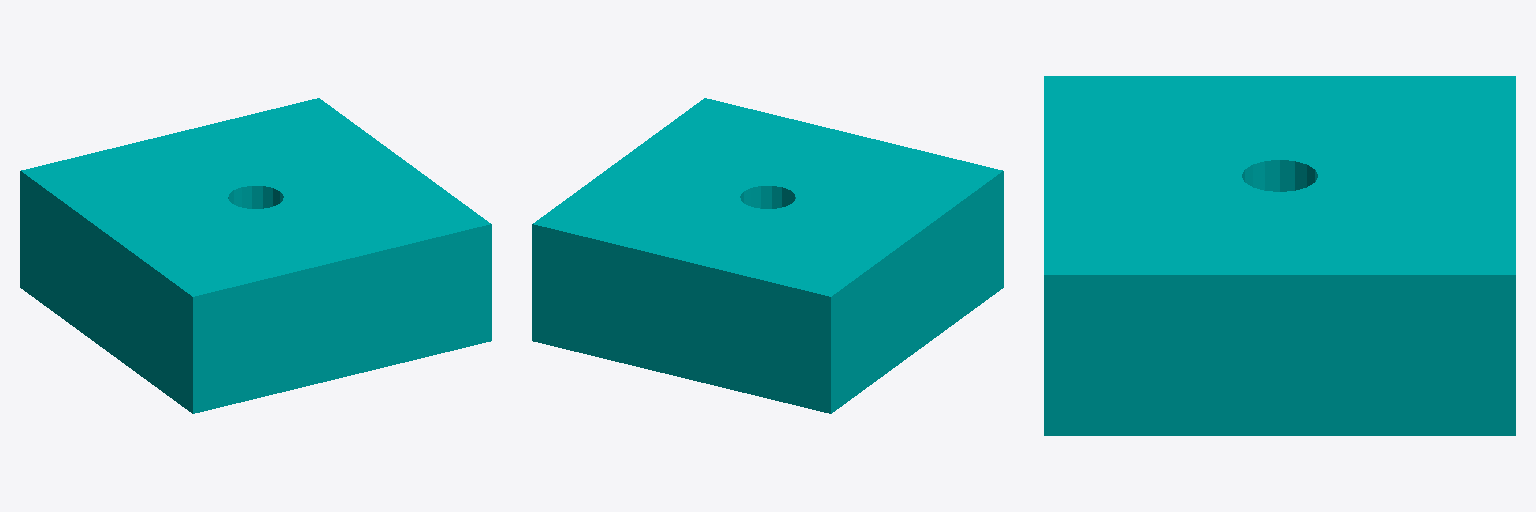
URDF robot description (0.65diam roundhole):
<?xml version="1.0" encoding="utf-8"?>
<!-- This URDF was automatically created by SolidWorks to URDF Exporter! Originally created by [author] ([email redacted]) 
     Commit Version: 1.5.1-0-g916b5db  Build Version: 1.5.7152.31018
     For more information, please see http://wiki.ros.org/sw_urdf_exporter -->
<robot
  name="0.65diam roundhole">
  <link
   concave="yes" name="0.65diam roundhole">
    <inertial>
      <origin
        xyz="0.0508 0.0508 0.01905"
        rpy="0 0 0" />
      <mass
        value="0.38513" />
      <inertia
        ixx="0.00038476"
        ixy="4.2078E-20"
        ixz="8.4478E-21"
        iyy="0.00038476"
        iyz="1.48351483355533E-20"
        izz="0.00067635" />
    </inertial>
    <visual>
      <origin
        xyz="0 0 0"
        rpy="1.5707963267949 0 0" />
      <geometry>
        <mesh
          filename="package://0.65diam roundhole/meshes/0.65diam roundhole.STL" />
      </geometry>
      <material
        name="">
        <color
          rgba="0 0.74902 0.74902 1" />
        <texture
          filename="package://0.65diam roundhole/textures/" />
      </material>
    </visual>
    <collision>
      <origin
        xyz="0 0 0"
        rpy="1.5707963267949 0 0" />
      <geometry>
        <mesh
          filename="package://0.65diam roundhole/meshes/0.65diam roundhole.STL" />
      </geometry>
    </collision>
  </link>
</robot>

--- Facts derived from the render (not from the file) ---
Views: 3 orthographic renders of the robot side by side, from view 1: azimuth 30°, elevation 25°; view 2: azimuth 150°, elevation 25°; view 3: azimuth 270°, elevation 25°.
Robot: 0.65diam roundhole — 1 links, 0 joints (none); root link 0.65diam roundhole; default pose: every joint at zero.
Visible links, largest first — view 1: 0.65diam roundhole; view 2: 0.65diam roundhole; view 3: 0.65diam roundhole.
Boxes of the visible links, x1,y1,x2,y2 form: 0.65diam roundhole: (20, 98, 491, 413); 0.65diam roundhole: (532, 98, 1003, 413); 0.65diam roundhole: (1044, 76, 1515, 435).
Bounding box of the posed robot: 0.1016 × 0.1016 × 0.0381 m (x, y, z).
Meshes: 1 distinct files referenced, 1 mesh visuals loaded (1 binary STL).
